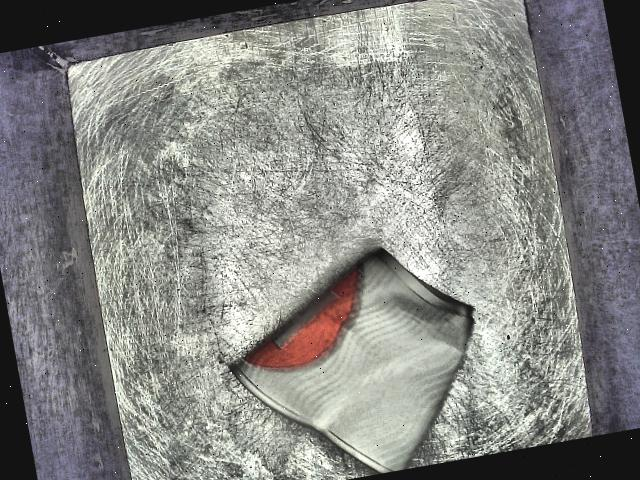Paper: (171, 222, 521, 480)
